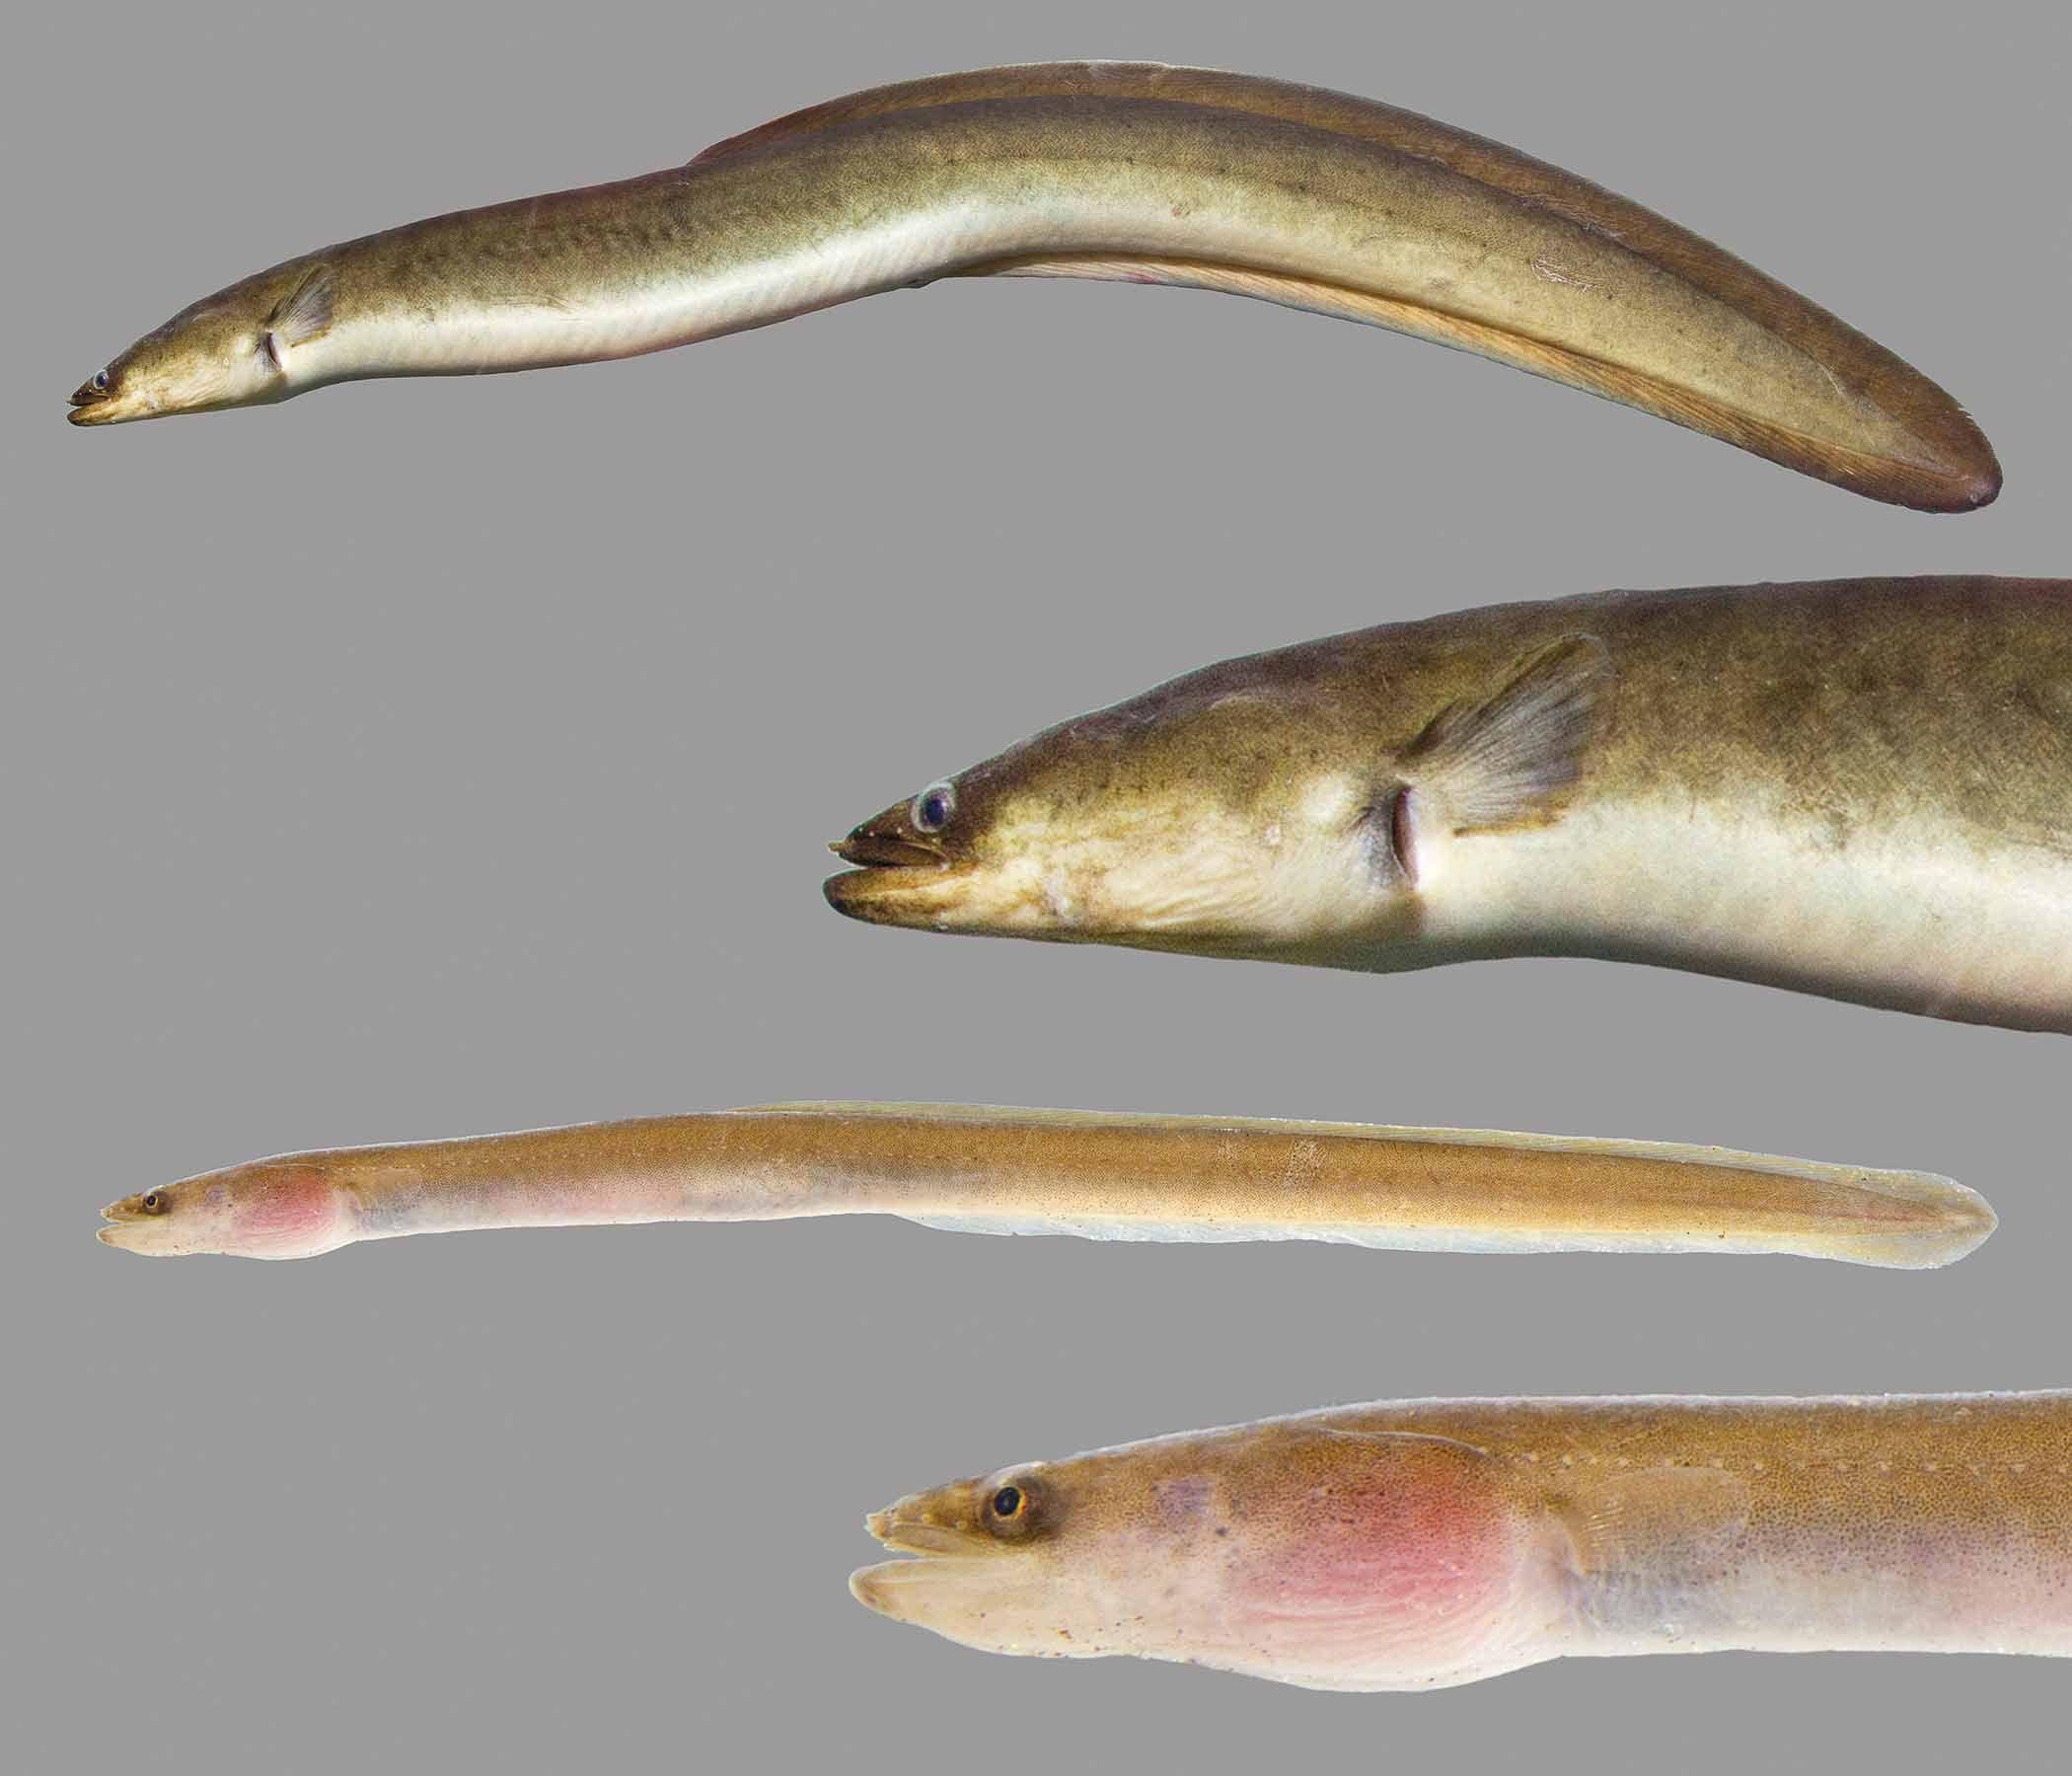Freshwater Eel: (70, 55, 2014, 529), (840, 548, 2072, 1050), (860, 1381, 2072, 1697), (90, 1096, 1989, 1277)
